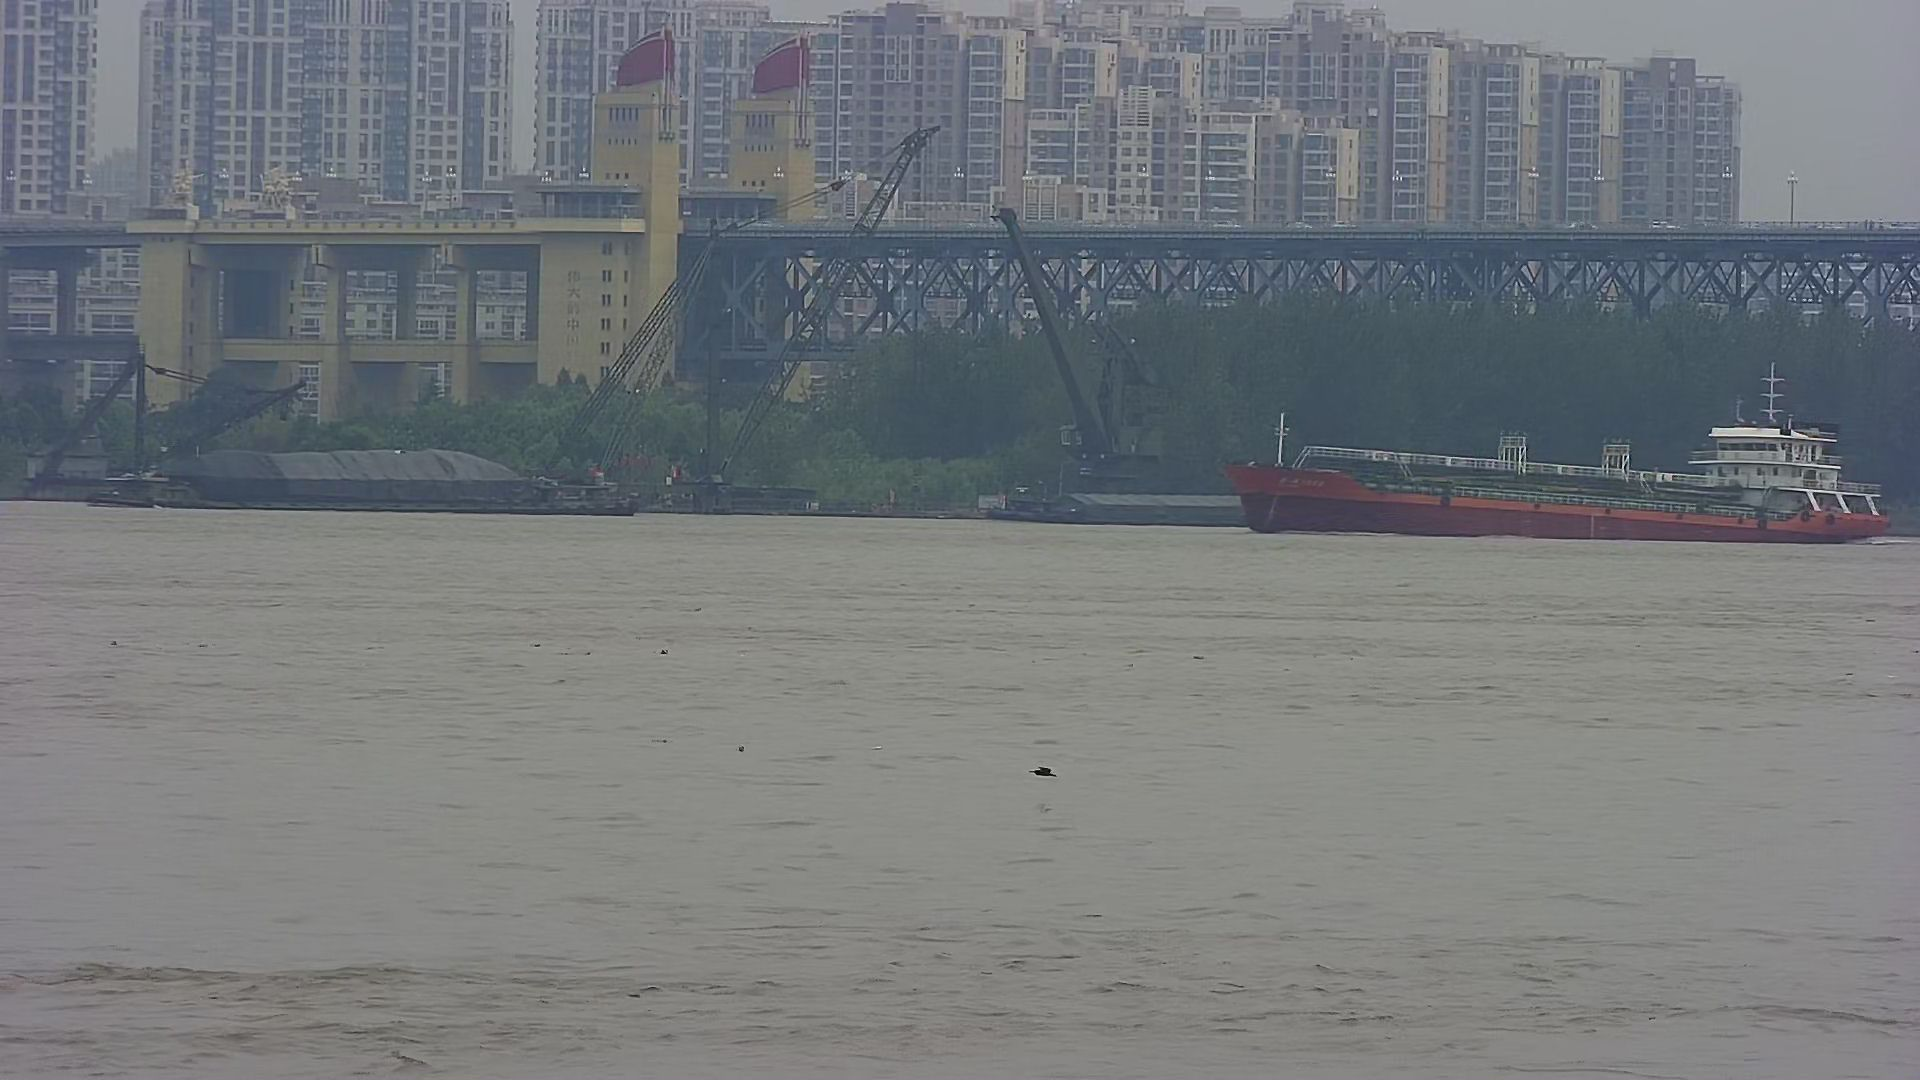ship: (1217, 415, 1902, 558), (145, 446, 644, 527)
